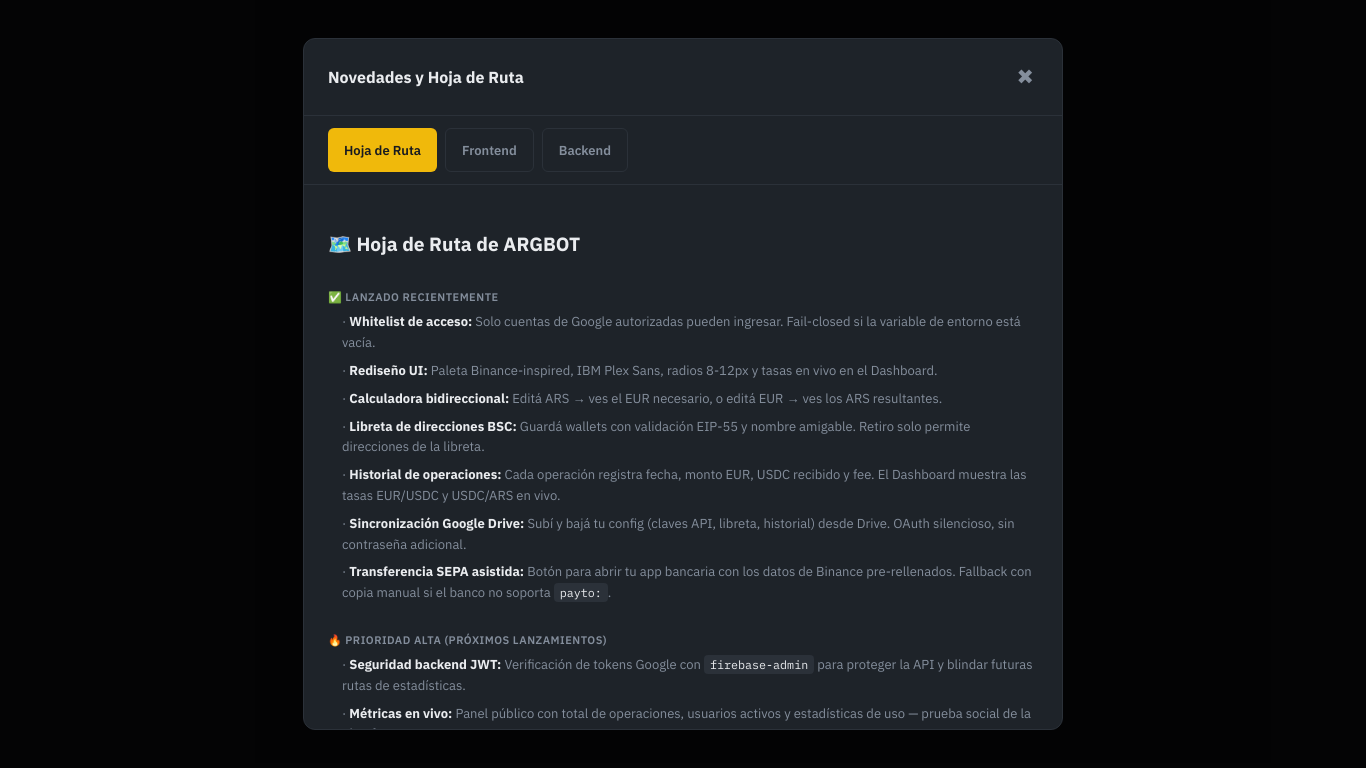
Updates › cambia al tab Backend y muestra el estado de carga inicial
Step 1. Click the button "Backend" → (585, 150), box [542,128,628,172]
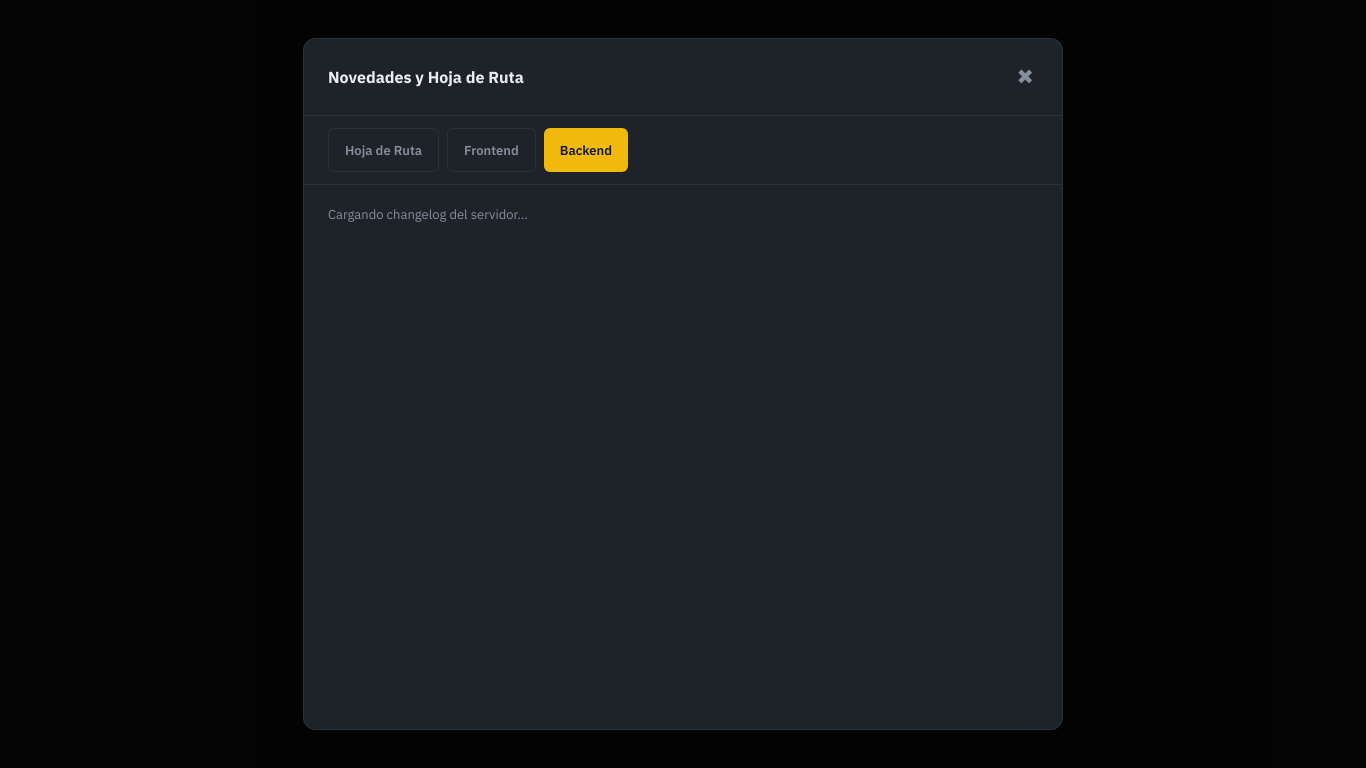
Check: the text "Cargando changelog del servidor..." is shown, box [328,206,528,223]
